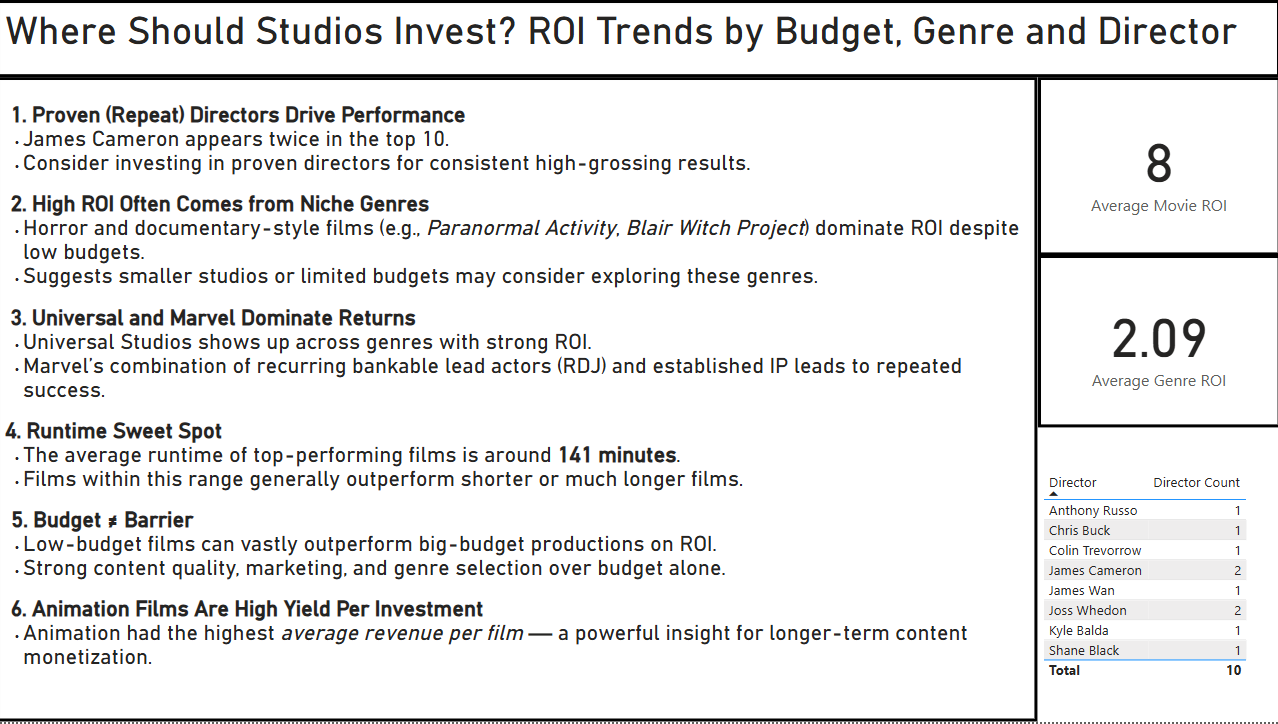

The page's visual inventory and layout, read from the dashboard file:
{"tool":"powerbi","page":{"name":"Findings","canvas":[1280,720],"ordinal":4},"visuals":[{"type":"textbox","box":[0,76.7,1038.4,643.5],"z":0},{"type":"card","fields":{"Values":["Movie ROI.ROI"]},"box":[1038.4,76.7,241.6,177.7],"z":1000},{"type":"tableEx","fields":{"Values":["Movie ROI.director","Movie ROI.Measure"]},"box":[1038.6,465.9,241.4,219.5],"z":2000},{"type":"textbox","box":[0,0,1280,76.7],"z":3000},{"type":"card","fields":{"Values":["Genre Budget & Revenue.Genre ROI"]},"box":[1038.4,254.4,241.6,171.9],"z":4000}]}

Visuals, with their boxes in screenshot pixels (x1, y1, x2, y2), scaled from the page's 1280x720 canvas onto the 1278x724 screenshot:
textbox: region(0, 77, 1037, 723)
card - Movie ROI.ROI: region(1037, 77, 1277, 256)
tableEx - Movie ROI.director x Movie ROI.Measure: region(1037, 468, 1277, 689)
textbox: region(0, 0, 1277, 77)
card - Genre Budget & Revenue.Genre ROI: region(1037, 256, 1277, 429)
